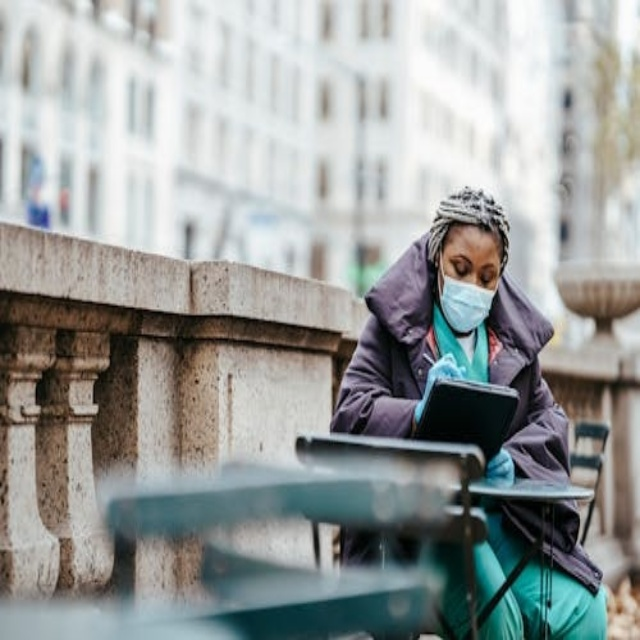Guantes: (414, 353, 466, 421), (483, 449, 515, 486)
Mascara: (438, 254, 496, 332)
Sin_gafas: (445, 242, 498, 281)
